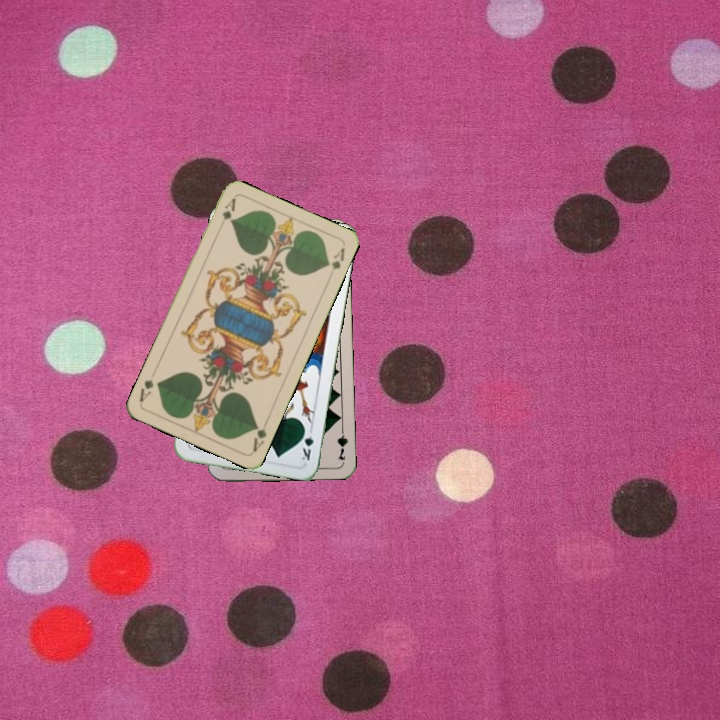G7: (333, 422, 350, 463)
GA: (249, 415, 271, 454), (216, 194, 238, 233)
GK: (297, 423, 316, 463)
